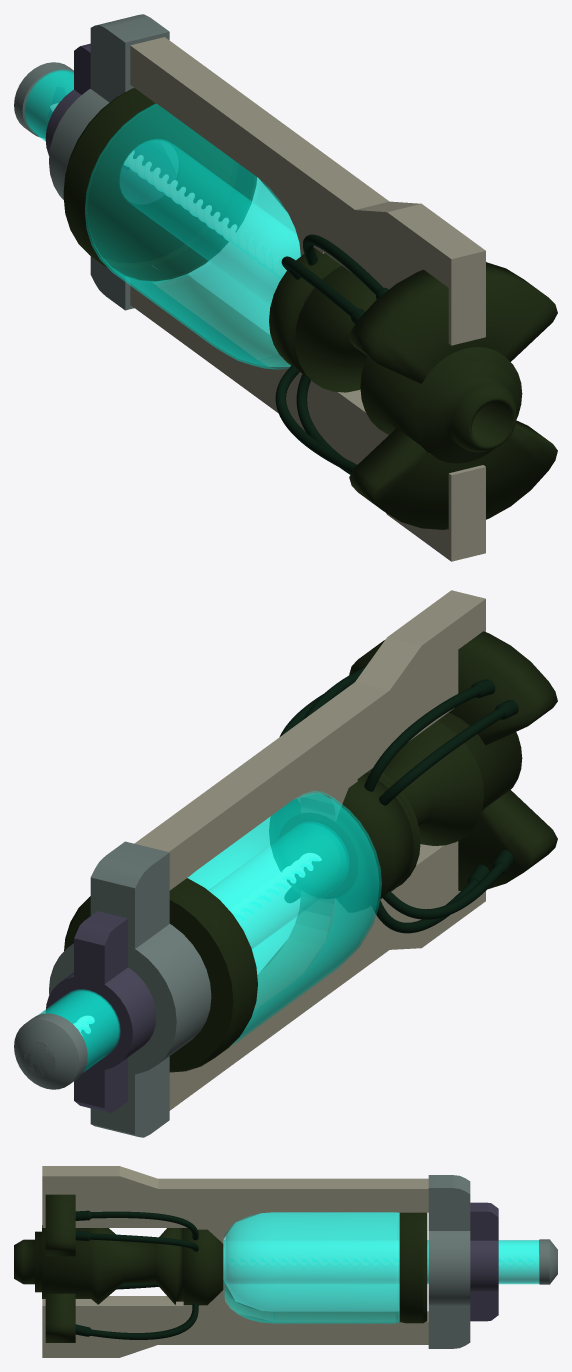
Rendered from pushka4.glb.
3 views of the same model, one above another, from view 1: azimuth 30°, elevation 25°; view 2: azimuth 150°, elevation 25°; view 3: azimuth 270°, elevation 25° (orthographic). The views are drawn at different scales.
Visible parts, largest first — view 1: wires, frame, flask, holder, lid; view 2: frame, wires, flask, holder, lid; view 3: frame, flask, wires, holder, lid.
Boxes of the visible parts, x1,y1,x2,y2 form: wires: (269,234,557,529); frame: (130,37,485,561); flask: (14,62,300,369); holder: (49,14,178,310); lid: (45,43,143,169); frame: (135,590,485,1110); wires: (269,631,557,933); flask: (14,791,381,1089); holder: (49,841,211,1137); lid: (46,911,156,1112); frame: (42,1166,428,1357); flask: (223,1212,557,1323); wires: (14,1194,223,1342); holder: (428,1175,470,1348); lid: (470,1202,498,1321).
Size of the model in its own units: 0.9389 by 1.48 by 4.
